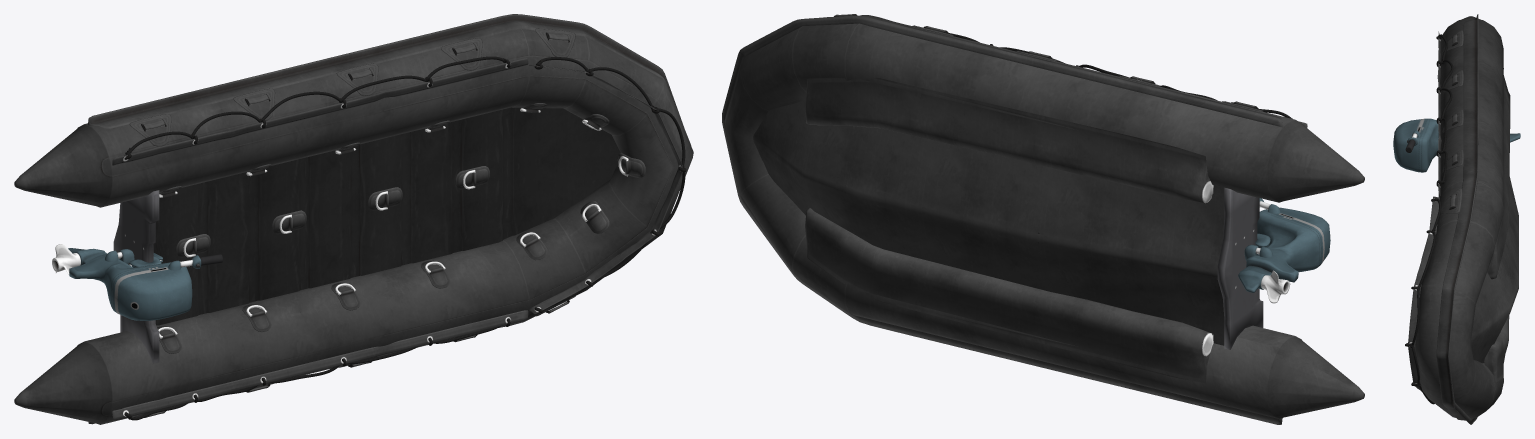
File: rib_assault.obj
3 views of the same model, side by side, from view 1: azimuth 30°, elevation 25°; view 2: azimuth 150°, elevation 25°; view 3: azimuth 270°, elevation 25° (orthographic). The views are drawn at different scales.
Size of the model in its own units: 9.5 by 4.26 by 2.03.
1 material, 1 textured.
